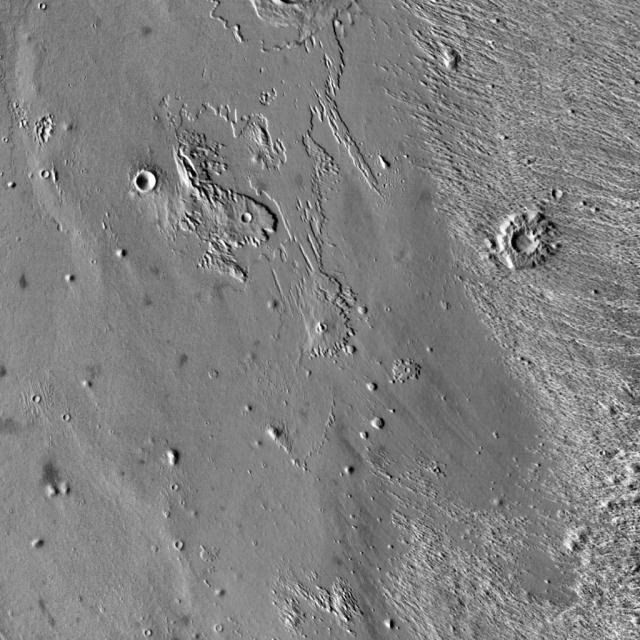crater: (514, 235, 538, 258), (142, 173, 163, 193), (248, 213, 258, 224), (554, 193, 564, 204), (48, 173, 56, 181), (46, 136, 54, 144), (48, 129, 56, 137), (322, 325, 330, 333), (175, 536, 182, 544), (62, 409, 70, 416), (215, 618, 222, 626), (44, 112, 51, 119), (145, 626, 151, 632), (32, 392, 38, 398), (39, 0, 45, 5)
